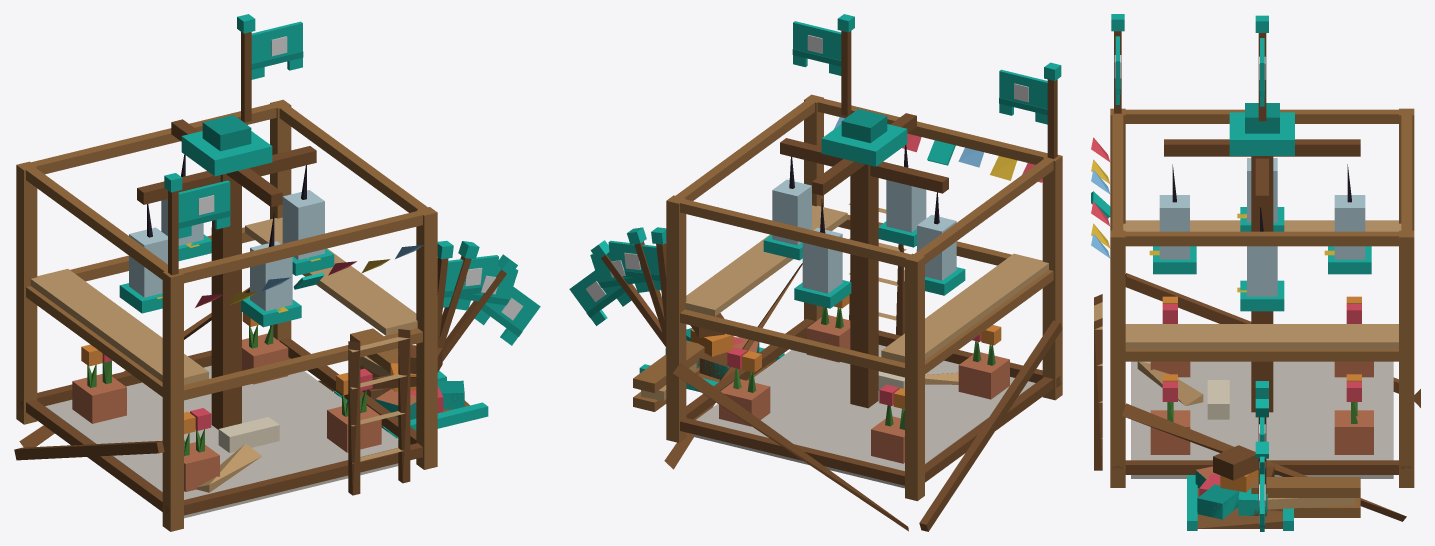
The model's file is hummingbird-producer.glb.
3 renders of one model, left to right at view 1: azimuth 30°, elevation 25°; view 2: azimuth 150°, elevation 25°; view 3: azimuth 270°, elevation 25°, orthographic. The views are drawn at different scales.
Visible parts, largest first — view 1: scaffold-mesh, built-mesh, dismantle-75-mesh, dismantle-50-mesh, dismantle-25-mesh, scaffold-banner, banner, dismantle-25-banner, dismantle-75-banner, dismantle-50-banner, flag-pole, dismantle-25-flag-pole (+3 smaller); view 2: scaffold-mesh, built-mesh, dismantle-75-mesh, dismantle-25-mesh, dismantle-50-mesh, banner, scaffold-banner, dismantle-25-banner, dismantle-75-banner, flag-pole, dismantle-25-flag-pole, scaffold-flag-pole (+3 smaller); view 3: scaffold-mesh, built-mesh, dismantle-25-mesh, dismantle-75-mesh, dismantle-50-mesh, flag-pole, scaffold-flag-pole, scaffold-banner, banner.
Part boxes in pixels (x1=…): scaffold-mesh: x1=14, y1=99, x2=437, y2=531; built-mesh: x1=45, y1=115, x2=381, y2=492; dismantle-75-mesh: x1=81, y1=197, x2=488, y2=518; dismantle-50-mesh: x1=81, y1=310, x2=488, y2=492; dismantle-25-mesh: x1=90, y1=345, x2=488, y2=517; scaffold-banner: x1=178, y1=180, x2=230, y2=238; banner: x1=251, y1=21, x2=303, y2=79; dismantle-25-banner: x1=474, y1=279, x2=540, y2=345; dismantle-75-banner: x1=443, y1=255, x2=498, y2=307; dismantle-50-banner: x1=456, y1=264, x2=518, y2=315; flag-pole: x1=237, y1=14, x2=255, y2=122; dismantle-25-flag-pole: x1=442, y1=254, x2=517, y2=361; scaffold-mesh: x1=633, y1=94, x2=1062, y2=531; built-mesh: x1=719, y1=109, x2=1035, y2=463; dismantle-75-mesh: x1=665, y1=186, x2=1000, y2=488; dismantle-25-mesh: x1=639, y1=313, x2=995, y2=484; dismantle-50-mesh: x1=639, y1=296, x2=1000, y2=476; banner: x1=792, y1=21, x2=841, y2=75; scaffold-banner: x1=999, y1=69, x2=1047, y2=124; dismantle-25-banner: x1=569, y1=268, x2=631, y2=325; dismantle-75-banner: x1=608, y1=240, x2=661, y2=290; flag-pole: x1=837, y1=14, x2=854, y2=115; dismantle-25-flag-pole: x1=590, y1=240, x2=666, y2=347; scaffold-flag-pole: x1=1044, y1=62, x2=1061, y2=158; scaffold-mesh: x1=1091, y1=108, x2=1420, y2=521; built-mesh: x1=1149, y1=103, x2=1373, y2=426; dismantle-25-mesh: x1=1131, y1=410, x2=1393, y2=530; dismantle-75-mesh: x1=1148, y1=196, x2=1373, y2=523; dismantle-50-mesh: x1=1131, y1=310, x2=1393, y2=530; flag-pole: x1=1255, y1=15, x2=1268, y2=121; scaffold-flag-pole: x1=1111, y1=14, x2=1124, y2=113; scaffold-banner: x1=1114, y1=36, x2=1121, y2=104; banner: x1=1259, y1=38, x2=1265, y2=106.
Bounding box in the file's own units: 2.35 × 2.27 × 1.51.
